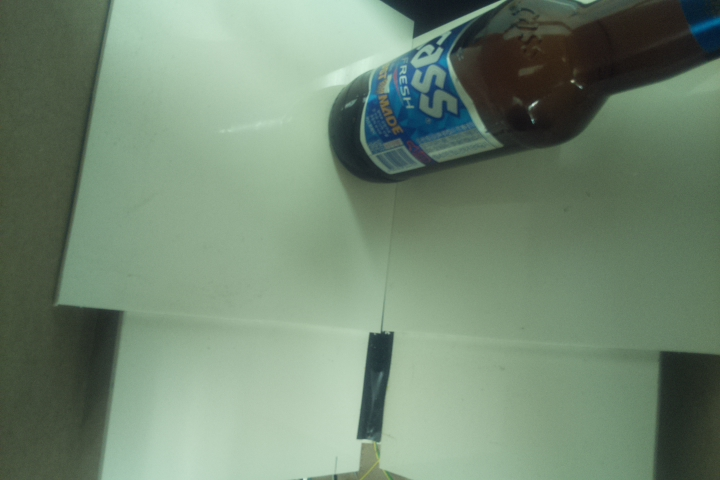makju: (327, 1, 720, 185)
